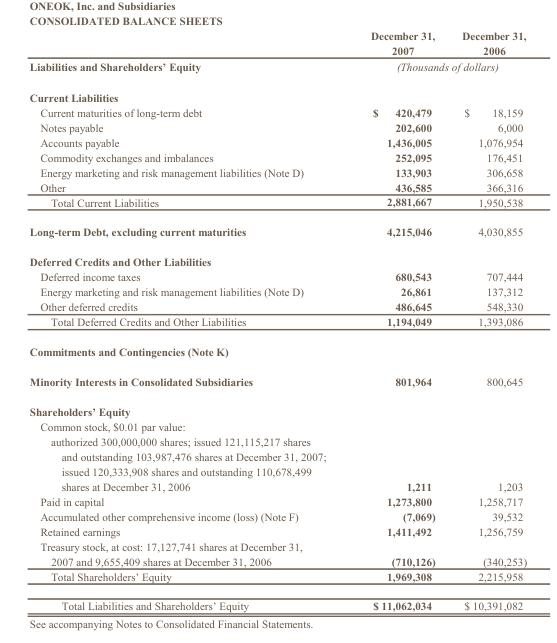table: (28, 28, 526, 611)
table column: (28, 28, 347, 611), (347, 28, 448, 611), (448, 28, 526, 611)
table column header: (28, 28, 526, 57)
table projected row header: (28, 336, 526, 366), (28, 81, 526, 104), (28, 246, 526, 269), (28, 396, 526, 418), (28, 418, 526, 433)
table row: (28, 433, 526, 493), (28, 216, 526, 246), (28, 336, 526, 366), (28, 366, 526, 396), (28, 538, 526, 568), (28, 28, 526, 57), (28, 57, 526, 81), (28, 81, 526, 104), (28, 246, 526, 269), (28, 313, 526, 336), (28, 194, 526, 216), (28, 396, 526, 418), (28, 568, 526, 590), (28, 590, 526, 611), (28, 104, 526, 119), (28, 119, 526, 134), (28, 134, 526, 149), (28, 149, 526, 164), (28, 164, 526, 179), (28, 179, 526, 194), (28, 269, 526, 284), (28, 284, 526, 299), (28, 418, 526, 433), (28, 493, 526, 508), (28, 508, 526, 523), (28, 523, 526, 538), (28, 299, 526, 313)
table spanning cell: (347, 57, 526, 81)
